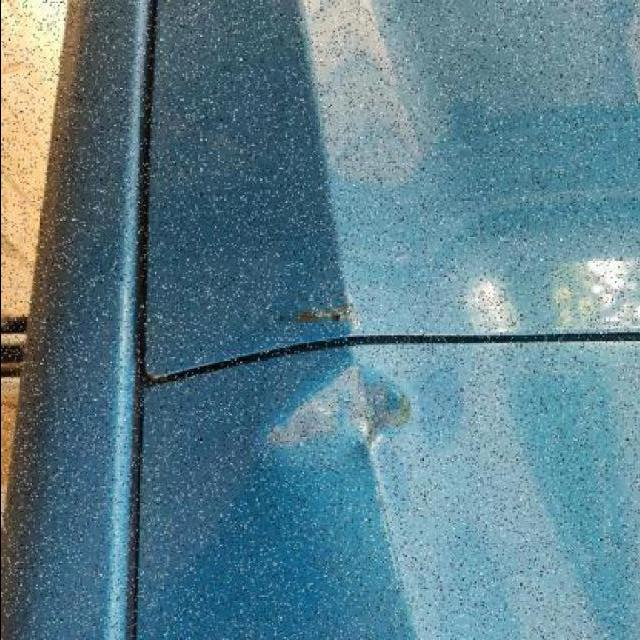doorouter-dent: (77, 0, 640, 344), (78, 343, 635, 640)
